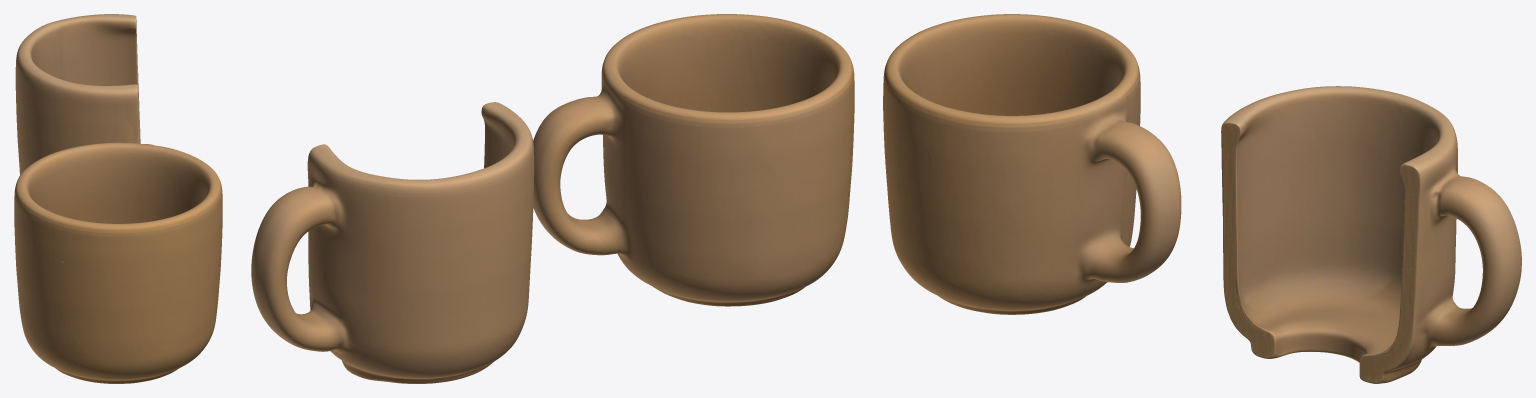
Rendered from ceramic mug 3d model.glb.
3 views of the same model, side by side, from view 1: azimuth 30°, elevation 25°; view 2: azimuth 150°, elevation 25°; view 3: azimuth 270°, elevation 25° (orthographic). The views are drawn at different scales.
Visible parts, largest first — view 1: tripo_node_c245083d-368a-4bc4-8ec9-04200299374b; view 2: tripo_node_c245083d-368a-4bc4-8ec9-04200299374b; view 3: tripo_node_c245083d-368a-4bc4-8ec9-04200299374b.
Boxes of the visible parts, box(x1,y1,x2,y2) form: tripo_node_c245083d-368a-4bc4-8ec9-04200299374b: box(14, 14, 222, 383); tripo_node_c245083d-368a-4bc4-8ec9-04200299374b: box(251, 14, 854, 383); tripo_node_c245083d-368a-4bc4-8ec9-04200299374b: box(883, 14, 1521, 383).
Bounding box in the file's own units: 0.6332 × 0.3824 × 0.9798.
Materials: 1 (1 with a texture image).
